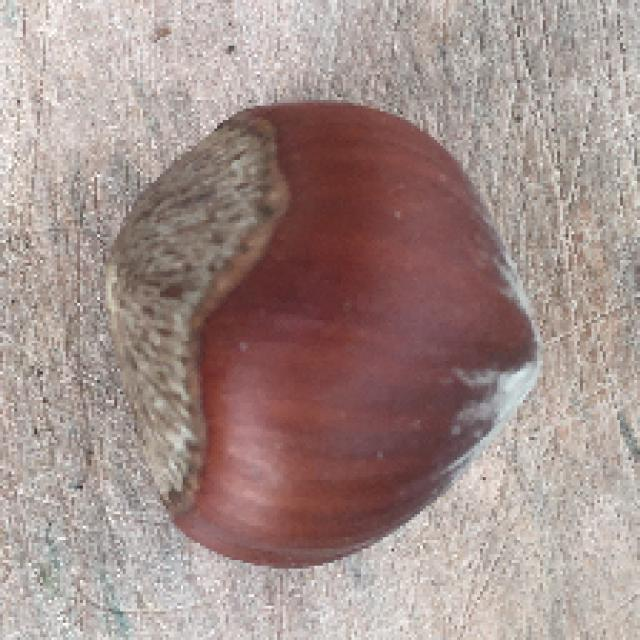DamagedHazelnut: (96, 102, 543, 565)
